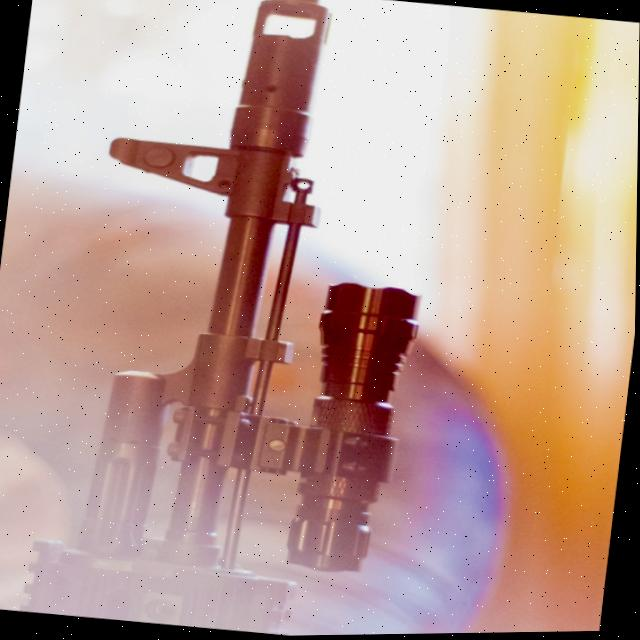firearm: (17, 0, 459, 640)
